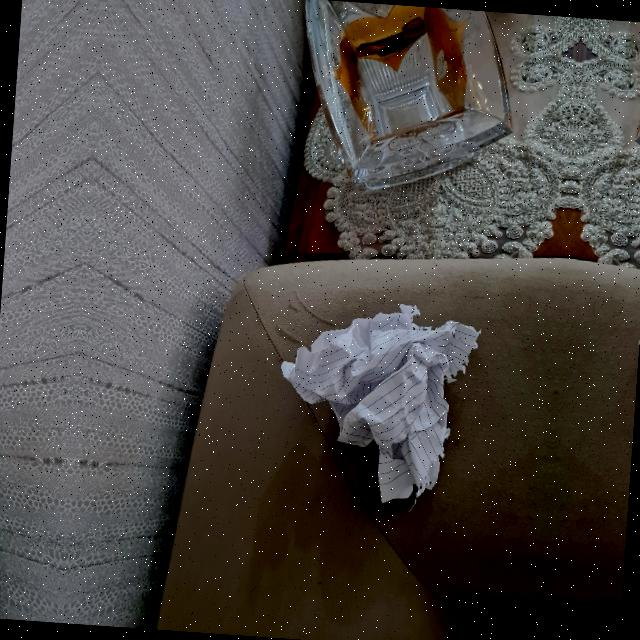paper: (272, 294, 488, 509), (621, 318, 640, 519)
